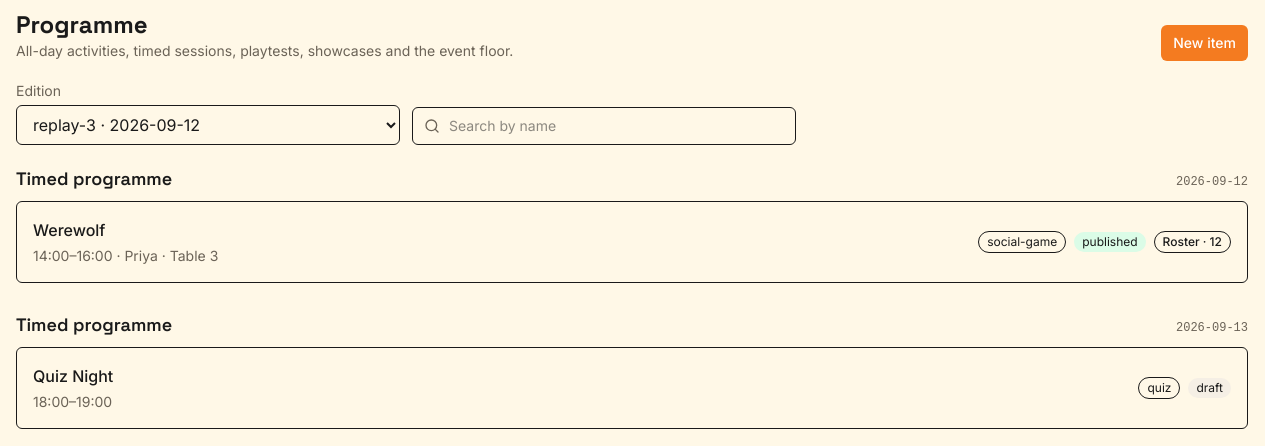
Test: finding a programme item by name › narrows the list to what was typed, whatever the case
Expected: the text "Werewolf" is shown, [33,220,105,240]
Type "QUIZ" into the search field named "Search the programme".
click(604, 126); type("QUIZ")  # box [412,107,796,145]
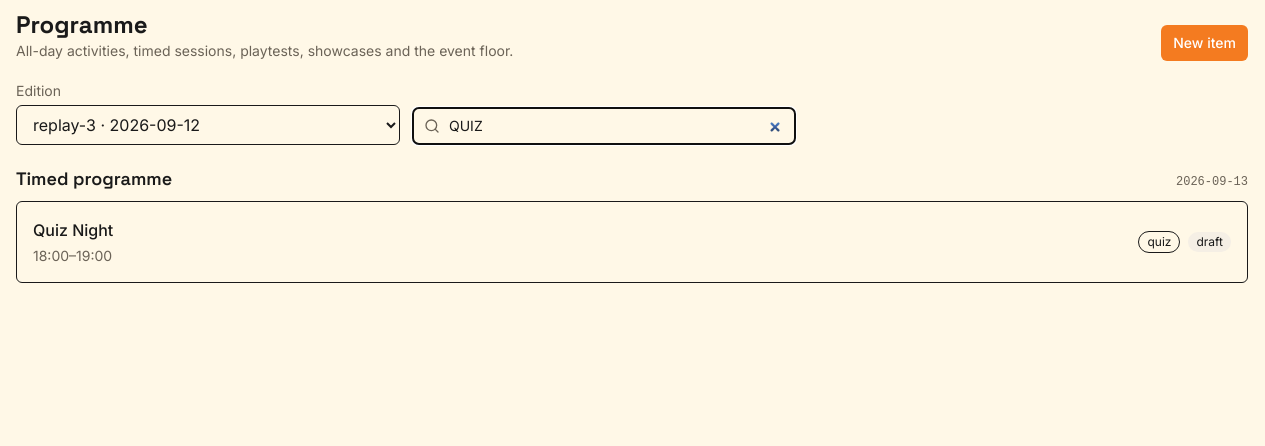
Expected: the text "Quiz Night" is shown, [33,218,113,242]
Now the link "Werewolf" is gone
